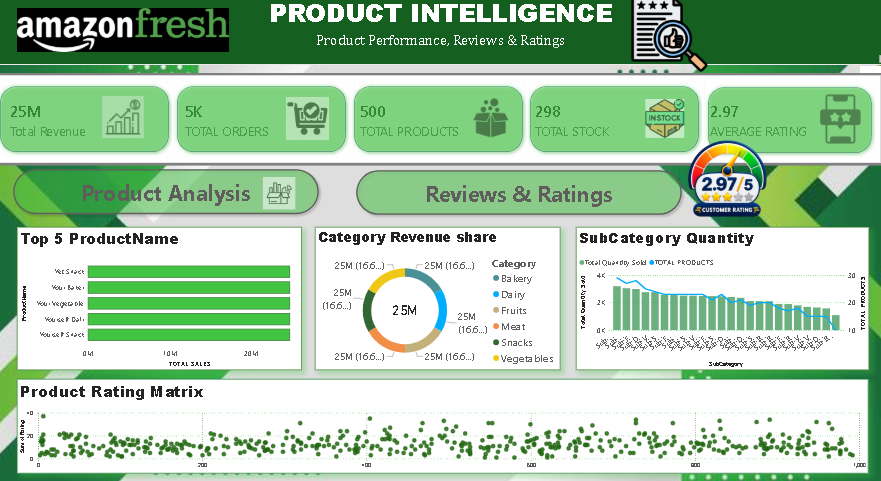

Layout of this report page (visuals, bound fields, positions):
{"tool":"powerbi","page":{"name":"product and inventory","canvas":[1920,1080],"ordinal":3},"visuals":[{"type":"textbox","title":"PRODUCT INTELLIGENCE","box":[0,0,1920.7,151.5],"z":0},{"type":"cardVisual","fields":{"Data":["orders1.Total Revenue","customers.TOTAL ORDERS","customers.TOTAL PRODUCTS","products.TOTAL STOCK","products.AVERAGE RATING"]},"box":[0,169,1920.7,199.8],"z":1000},{"type":"shape","box":[0,188.8,382,160.2],"z":2000},{"type":"shape","box":[382,188.8,382,160.2],"z":3000},{"type":"shape","box":[763.9,188.8,382,160.2],"z":4000},{"type":"shape","box":[1145.9,188.8,382,160.2],"z":5000},{"type":"shape","box":[1528.3,189.1,371,160.2],"z":6000},{"type":"actionButton","title":"Product button","box":[28.1,367.2,678.3,115.2],"z":7000},{"type":"actionButton","title":"reviews and rating","box":[769,369.4,721.4,114.5],"z":8000},{"type":"barChart","title":"Top 5 ProductName","fields":{"Category":["products.ProductName"],"Y":["customers.TOTAL SALES"]},"box":[45.7,502.2,615.2,308.7],"z":9000},{"type":"donutChart","title":" Category Revenue share","fields":{"Category":["products.Category"],"Y":["orders1.Total Revenue"]},"box":[689.1,502.2,530.4,308.7],"z":10000},{"type":"scatterChart","title":"Product Rating Matrix","fields":{"Category":["products.ProductName"],"X":["products.AVERAGE PRICE"],"Y":["Sum(reviews.Rating)"]},"box":[45.7,830.4,1839.1,204.3],"z":11000},{"type":"lineStackedColumnComboChart","title":" SubCategory Quantity","fields":{"Category":["products.SubCategory"],"Y":["products.Total Quantity Sold"],"Y2":["customers.TOTAL PRODUCTS"]},"box":[1252.2,502.2,632.6,308.7],"z":12000},{"type":"image","box":[1447.2,313.2,265.7,170.6],"z":17000},{"type":"image","box":[573.9,393.5,73.9,69.6],"z":18000},{"type":"image","box":[611.3,220.3,123.1,92.9],"z":19000},{"type":"image","box":[991.4,220.3,153.4,88.6],"z":20000},{"type":"image","box":[166.3,218.2,216,90.7],"z":21000},{"type":"image","box":[1747.4,207.4,153.4,121],"z":22000},{"type":"image","box":[1399.7,224.6,90.7,84.2],"z":23000},{"type":"image","box":[45.4,0,457.9,151.2],"z":24000},{"type":"image","box":[1337,0,235.4,168.5],"z":25000}]}

Visuals, with their boxes on the page's 1920x1080 design canvas (x1, y1, x2, y2). These are canvas units, not pixel positions in the 881x481 screenshot, which may show the page scaled, cropped or inside an application window:
"PRODUCT INTELLIGENCE" textbox: x1=0, y1=0, x2=1921, y2=152
cardVisual - orders1.Total Revenue x customers.TOTAL ORDERS: x1=0, y1=169, x2=1921, y2=369
shape: x1=0, y1=189, x2=382, y2=349
shape: x1=382, y1=189, x2=764, y2=349
shape: x1=764, y1=189, x2=1146, y2=349
shape: x1=1146, y1=189, x2=1528, y2=349
shape: x1=1528, y1=189, x2=1899, y2=349
"Product button" actionButton: x1=28, y1=367, x2=706, y2=482
"reviews and rating" actionButton: x1=769, y1=369, x2=1490, y2=484
"Top 5 ProductName" barChart: x1=46, y1=502, x2=661, y2=811
" Category Revenue share" donutChart: x1=689, y1=502, x2=1220, y2=811
"Product Rating Matrix" scatterChart: x1=46, y1=830, x2=1885, y2=1035
" SubCategory Quantity" lineStackedColumnComboChart: x1=1252, y1=502, x2=1885, y2=811
image: x1=1447, y1=313, x2=1713, y2=484
image: x1=574, y1=394, x2=648, y2=463
image: x1=611, y1=220, x2=734, y2=313
image: x1=991, y1=220, x2=1145, y2=309
image: x1=166, y1=218, x2=382, y2=309
image: x1=1747, y1=207, x2=1901, y2=328
image: x1=1400, y1=225, x2=1490, y2=309
image: x1=45, y1=0, x2=503, y2=151
image: x1=1337, y1=0, x2=1572, y2=168
